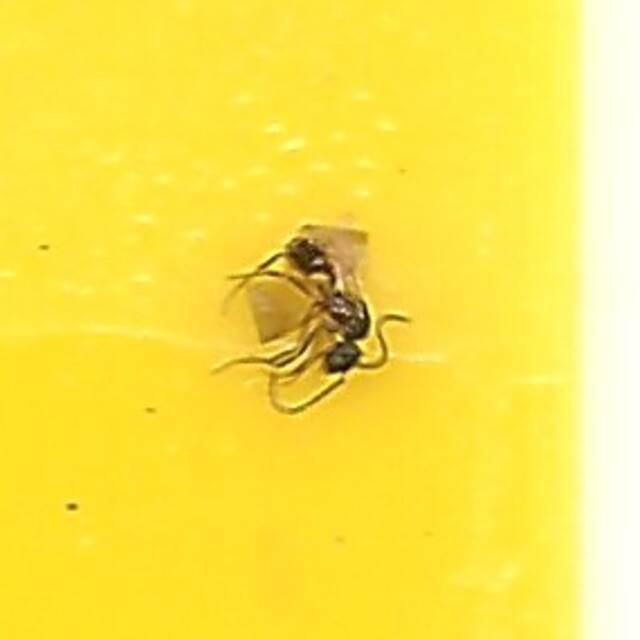Hymenoptera: (225, 223, 415, 417)
